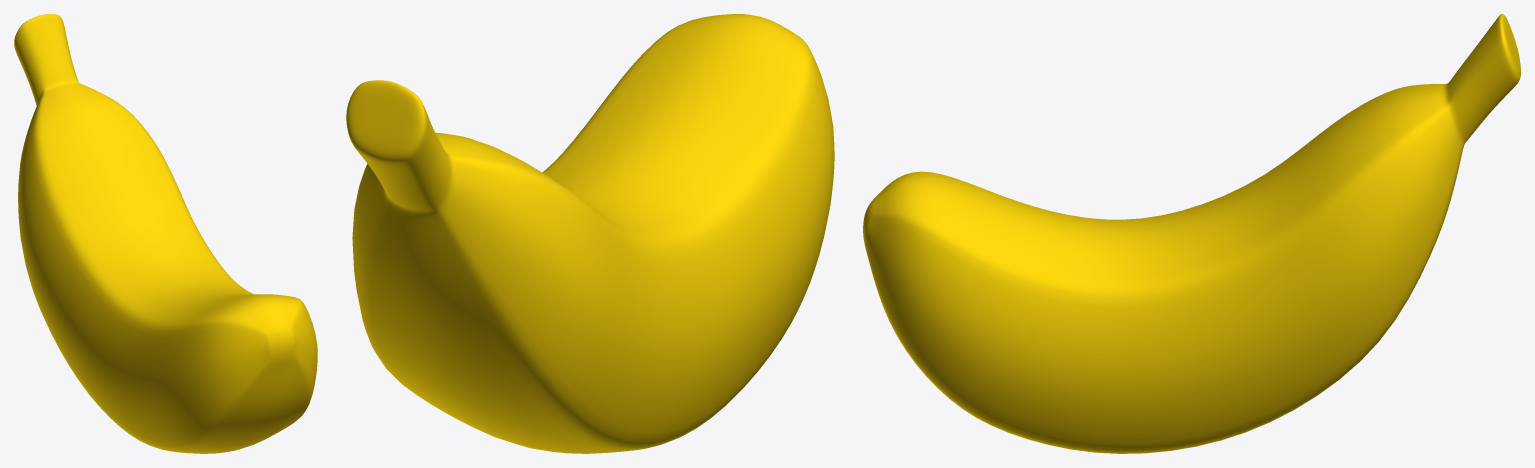
File: banana.dae
3 views of the same model, side by side, from view 1: azimuth 30°, elevation 25°; view 2: azimuth 150°, elevation 25°; view 3: azimuth 270°, elevation 25° (orthographic). The views are drawn at different scales.
Visible parts, largest first — view 1: Banana_low; view 2: Banana_low; view 3: Banana_low.
Boxes of the visible parts, left/top/right/bottom form: Banana_low: left=14, top=14, right=317, bottom=453; Banana_low: left=346, top=14, right=834, bottom=453; Banana_low: left=863, top=14, right=1520, bottom=453.
Bounding box in the file's own units: 0.0901 × 0.2623 × 0.1837.
